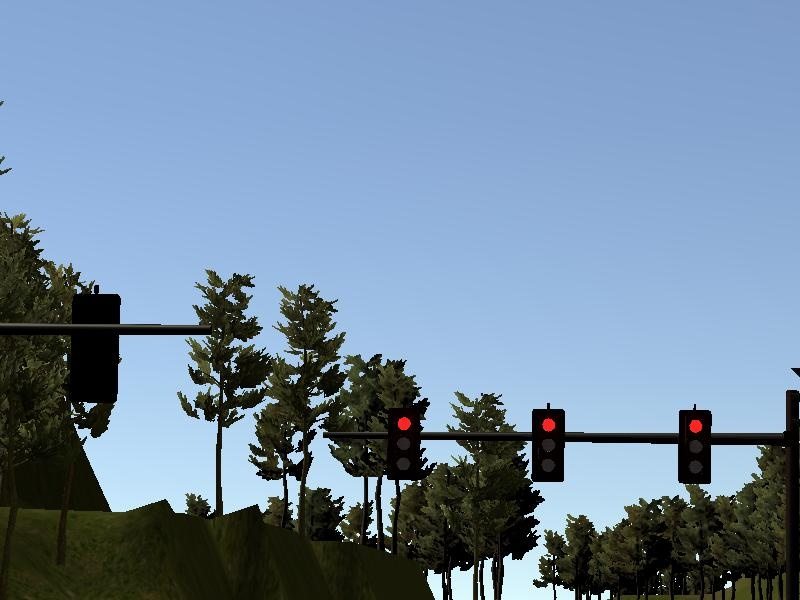red: (673, 404, 715, 483), (526, 402, 565, 483), (385, 403, 422, 478)
